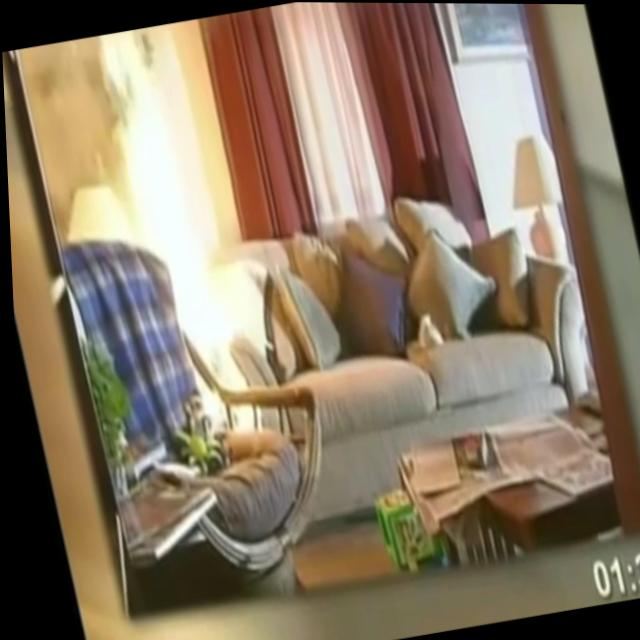fire: (62, 16, 290, 453)
